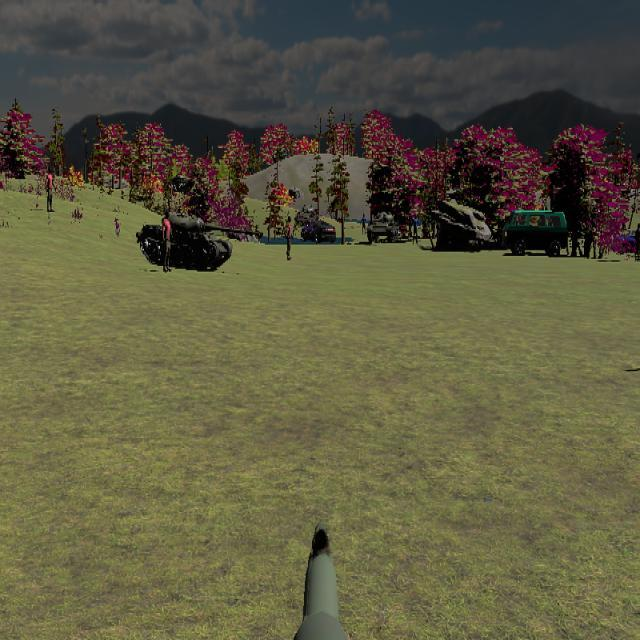Human: (160, 211, 175, 274)
Tank: (137, 211, 262, 271), (368, 210, 399, 244), (295, 204, 322, 228)
car: (503, 209, 568, 257), (301, 220, 337, 245)
